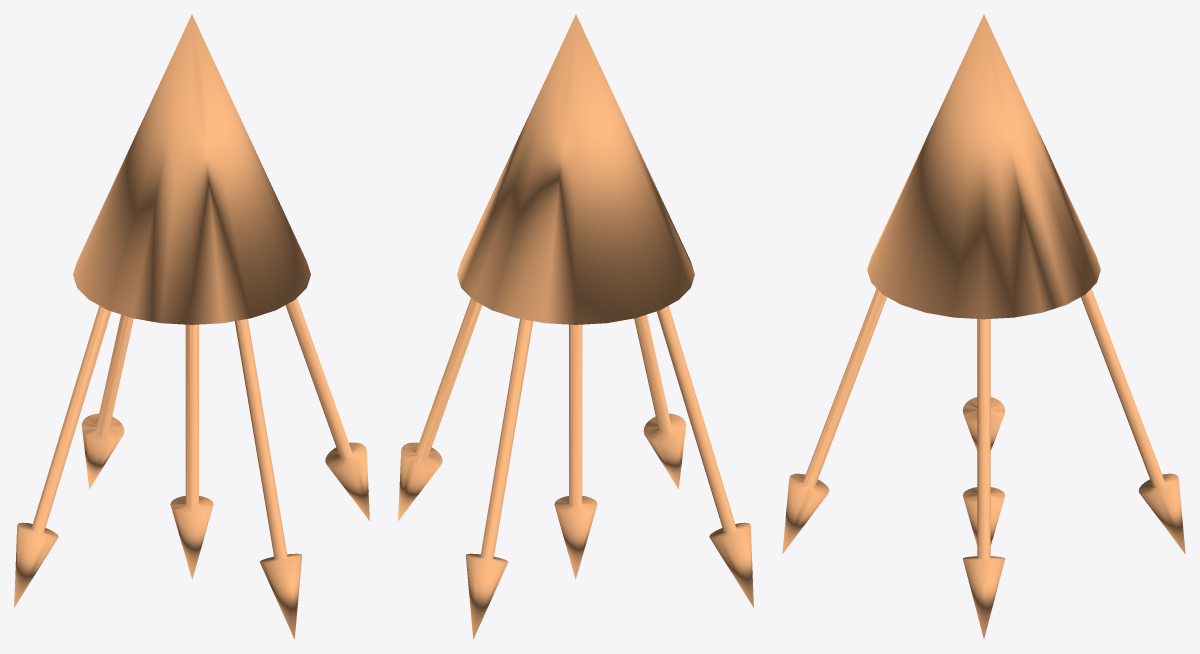
Rendered from SLight.obj.
3 views of the same model, side by side, from view 1: azimuth 30°, elevation 25°; view 2: azimuth 150°, elevation 25°; view 3: azimuth 270°, elevation 25° (orthographic).
Visible parts, largest first — view 1: SLight.obj; view 2: SLight.obj; view 3: SLight.obj.
Boxes of the visible parts, x1,y1,x2,y2 form: SLight.obj: (14, 14, 369, 638); SLight.obj: (398, 14, 753, 638); SLight.obj: (782, 14, 1185, 638).
Bounding box in the file's own units: 2.04 × 3.1 × 2.04.
